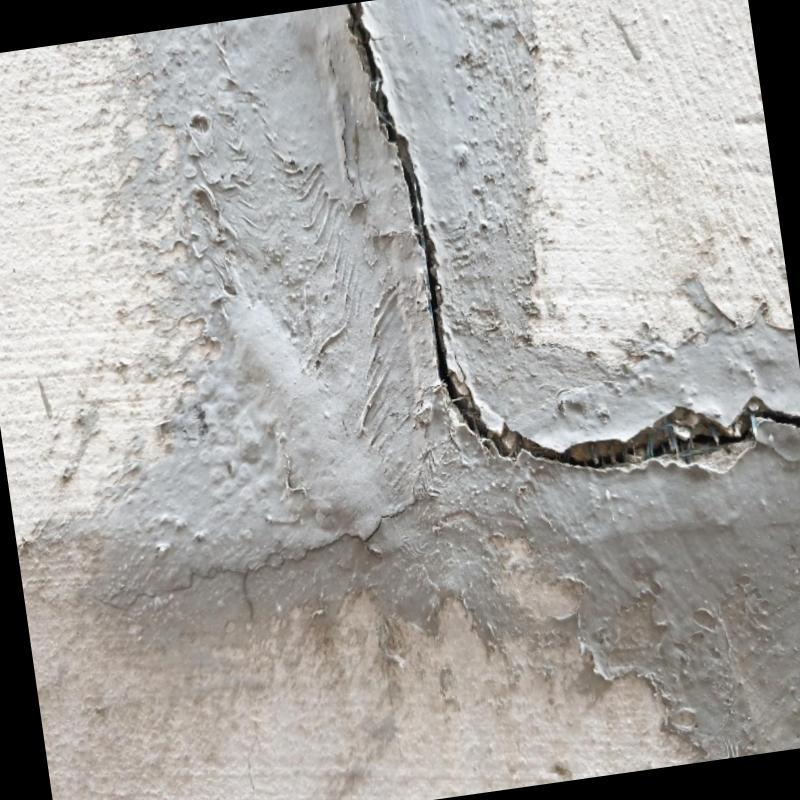pothole: (347, 2, 800, 475)
